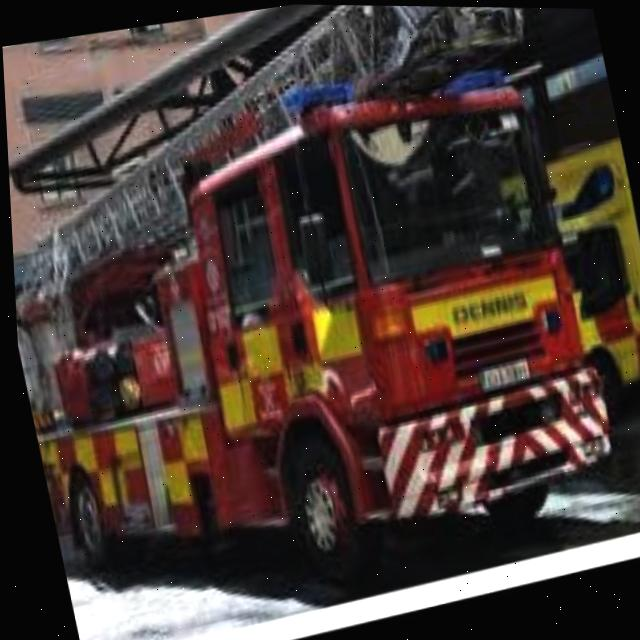emergency: (0, 0, 640, 598)
